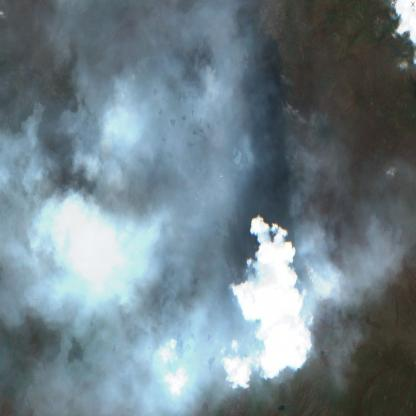fire: (52, 37, 311, 304)
